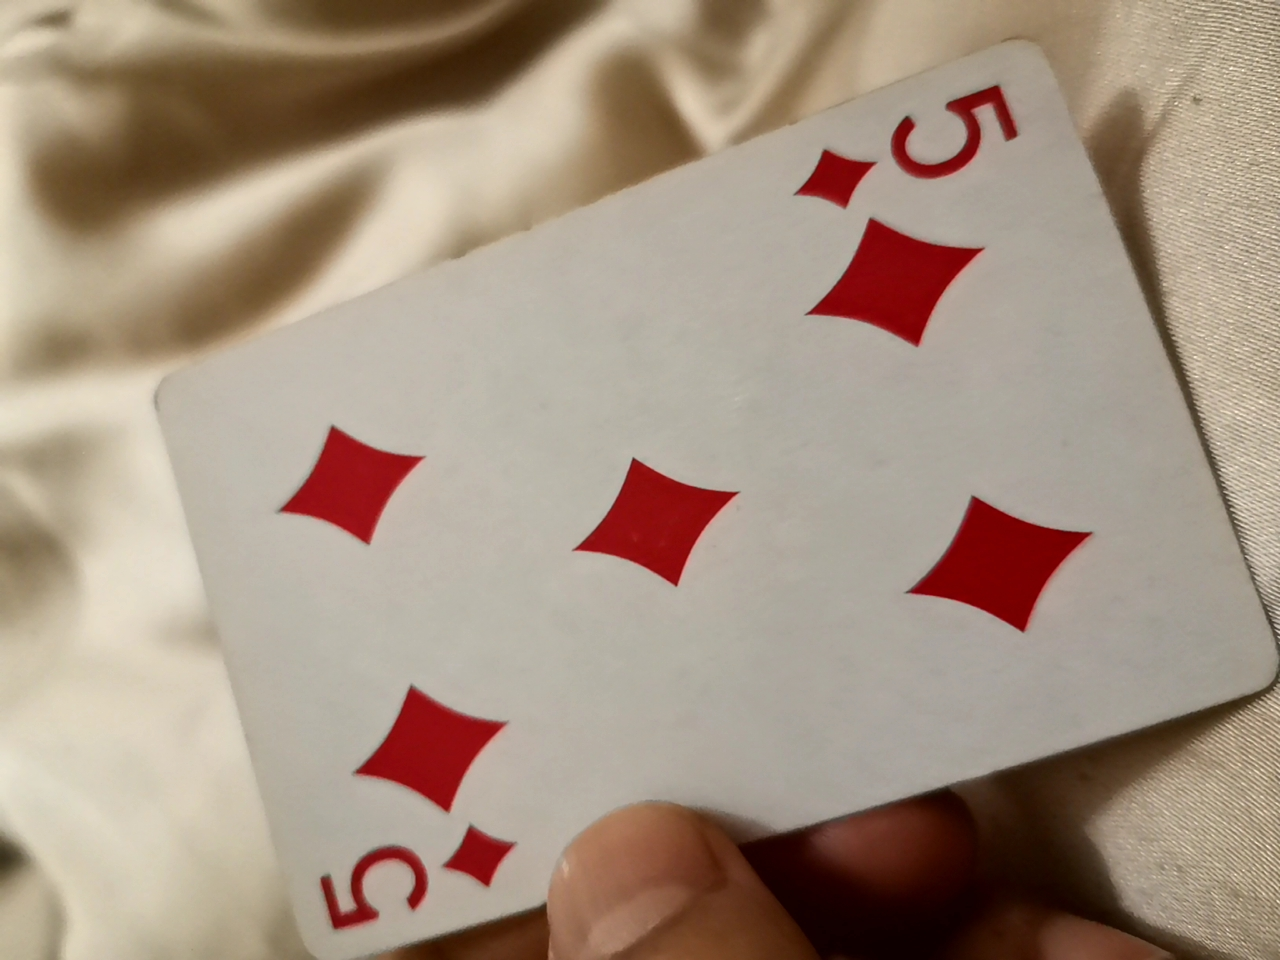fk 5: (107, 42, 1270, 953)
